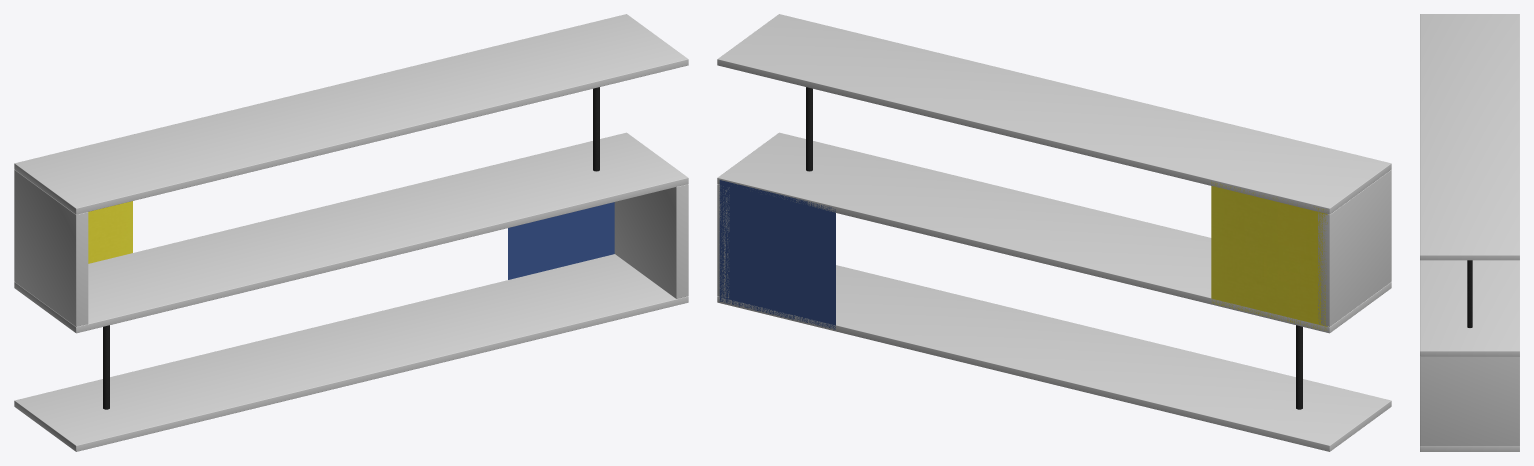
Rendered from shelf.fbx.
The picture shows the model from 3 angles, left to right: view 1: azimuth 30°, elevation 25°; view 2: azimuth 150°, elevation 25°; view 3: azimuth 270°, elevation 25°; orthographic projection. The views are drawn at different scales.
Visible parts, largest first — view 1: Shelfs, Shelfs_3, Shelfs_2, sideParts, sideParts_2, Plane, Plane_2; view 2: Shelfs, Shelfs_3, Shelfs_2, Plane, Plane_2, sideParts, sideParts_2; view 3: Shelfs, Shelfs_2, sideParts_2, Shelfs_3, Supporters_2.
Boxes of the visible parts, x1,y1,x2,y2 form: Shelfs: [14, 14, 688, 214]; Shelfs_3: [14, 254, 688, 451]; Shelfs_2: [14, 132, 688, 333]; sideParts: [14, 170, 88, 326]; sideParts_2: [614, 184, 688, 298]; Plane: [508, 202, 614, 279]; Plane_2: [88, 201, 132, 263]; Shelfs: [717, 14, 1391, 214]; Shelfs_3: [717, 265, 1391, 451]; Shelfs_2: [717, 132, 1391, 333]; Plane: [719, 180, 835, 329]; Plane_2: [1211, 181, 1327, 330]; sideParts: [1318, 170, 1391, 326]; sideParts_2: [717, 184, 729, 298]; Shelfs: [1420, 14, 1519, 260]; Shelfs_2: [1420, 260, 1519, 356]; sideParts_2: [1420, 356, 1519, 446]; Shelfs_3: [1420, 446, 1519, 451]; Supporters_2: [1467, 260, 1472, 327].
Bounding box in the file's own units: 162 × 61.71 × 28.42.
Materials: 4 (3 with a texture image).
